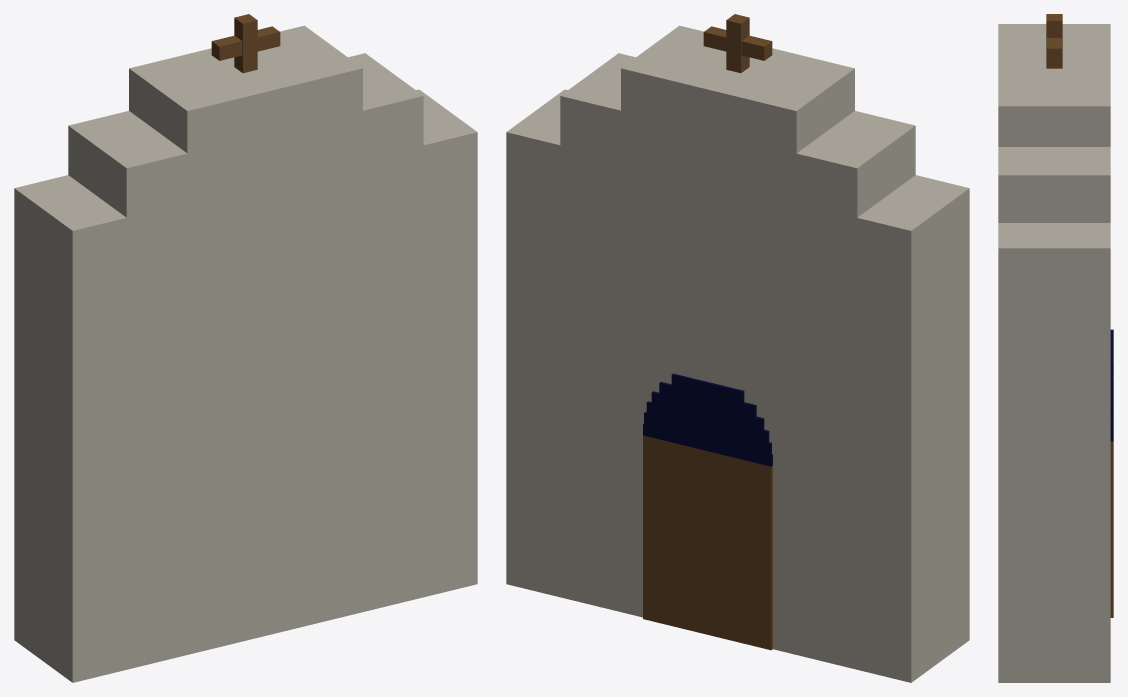
File: env_church_facade.obj
3 views of the same model, side by side, from view 1: azimuth 30°, elevation 25°; view 2: azimuth 150°, elevation 25°; view 3: azimuth 270°, elevation 25° (orthographic). The views are drawn at different scales.
Parts seen in each view (by area): view 1: ChurchFacade; view 2: ChurchFacade; view 3: ChurchFacade.
Part boxes in pixels (x1=…): ChurchFacade: x1=14, y1=14, x2=477, y2=682; ChurchFacade: x1=506, y1=14, x2=969, y2=682; ChurchFacade: x1=998, y1=14, x2=1113, y2=682.
Size of the model in its own units: 6 by 8.4 by 1.54.
